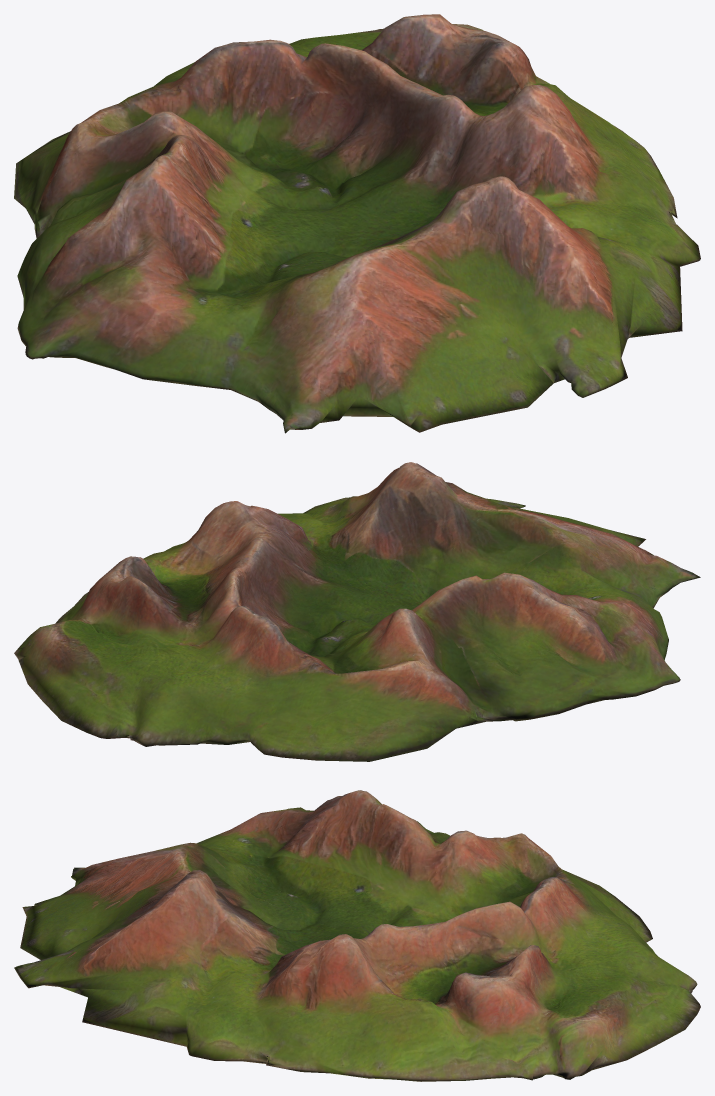
File: _A_3D_model_of_a_rugg_0305090309_texture.fbx
3 views of the same model, one above another, from view 1: azimuth 30°, elevation 25°; view 2: azimuth 150°, elevation 25°; view 3: azimuth 270°, elevation 25° (orthographic). The views are drawn at different scales.
Parts seen in each view (by area): view 1: Mesh1_Mesh1.004; view 2: Mesh1_Mesh1.004; view 3: Mesh1_Mesh1.004.
Part boxes in pixels (x1,y1,x2,y2): Mesh1_Mesh1.004: (14, 14, 700, 433); Mesh1_Mesh1.004: (14, 462, 700, 761); Mesh1_Mesh1.004: (14, 790, 700, 1081).
Bounding box in the file's own units: 5446 × 1000 × 6103.
Materials: 1 (1 with a texture image).
